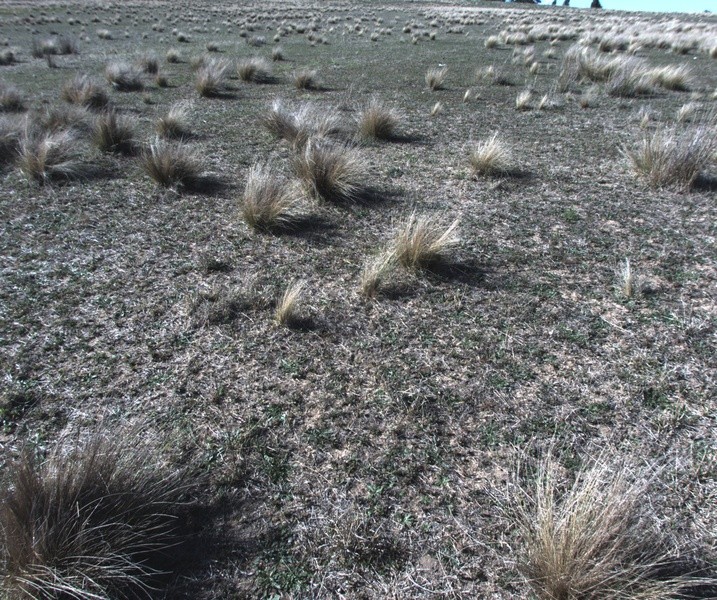st: (483, 443, 699, 600), (1, 448, 187, 599), (619, 124, 713, 194), (243, 177, 314, 238), (394, 217, 478, 268), (143, 141, 216, 198), (301, 143, 358, 202), (265, 271, 315, 329), (360, 97, 413, 146), (16, 131, 64, 182), (356, 250, 396, 299), (465, 134, 514, 174), (262, 102, 307, 144), (570, 50, 625, 83), (99, 115, 137, 158), (64, 83, 104, 117), (156, 102, 191, 140), (618, 63, 655, 96), (196, 66, 229, 99), (237, 59, 269, 89), (110, 63, 143, 91), (658, 64, 693, 88), (1, 83, 23, 108), (422, 69, 445, 92), (35, 40, 61, 58), (291, 70, 314, 89), (511, 93, 531, 113), (96, 27, 116, 46), (432, 100, 449, 119), (1, 47, 22, 61), (244, 33, 264, 47), (270, 46, 287, 62), (485, 32, 501, 49), (155, 75, 171, 90), (175, 28, 188, 46), (207, 38, 222, 53), (144, 57, 158, 73), (167, 50, 180, 65), (463, 83, 472, 104), (544, 44, 556, 59), (526, 46, 534, 62), (529, 62, 536, 76)
